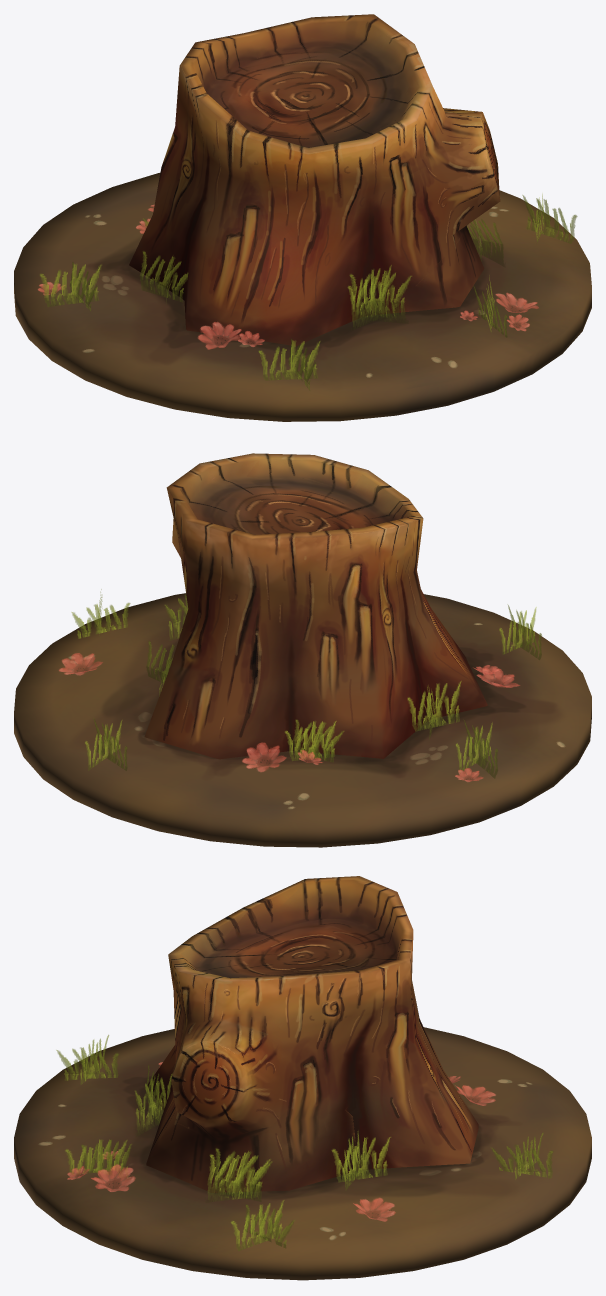
The model's file is Tree_Stump.glb.
3 renders of one model, top to bottom at view 1: azimuth 30°, elevation 25°; view 2: azimuth 150°, elevation 25°; view 3: azimuth 270°, elevation 25°, orthographic.
Visible parts, largest first — view 1: Cylinder_0, Circle_0, Plane.010_0, Plane.026_0, Plane.009_0, Plane.025_0, Plane.012_0, Plane.029_0, Plane.016_0, Plane.006_0; view 2: Circle_0, Cylinder_0, Plane.011_0, Plane.014_0, Plane.013_0, Plane.028_0, Plane.004_0, Plane.026_0, Plane.027_0, Plane.024_0, Plane.025_0, Plane.023_0 (+4 smaller); view 3: Cylinder_0, Circle_0, Plane.016_0, Plane.015_0, Plane.017_0, Plane.010_0, Plane.029_0, Plane.024_0, Plane.030_0, Plane.023_0, Plane.031_0, Plane.028_0 (+4 smaller).
Boxes of the visible parts, box(x1,y1,x2,y2) form: Cylinder_0: box(129, 14, 500, 346); Circle_0: box(14, 173, 591, 421); Plane.010_0: box(349, 270, 411, 323); Plane.026_0: box(40, 263, 101, 306); Plane.009_0: box(347, 265, 391, 329); Plane.025_0: box(258, 340, 320, 380); Plane.012_0: box(140, 251, 188, 302); Plane.029_0: box(522, 195, 577, 243); Plane.016_0: box(467, 219, 504, 266); Plane.006_0: box(198, 322, 241, 349); Circle_0: box(14, 593, 591, 847); Cylinder_0: box(144, 453, 487, 759); Plane.011_0: box(407, 681, 461, 731); Plane.014_0: box(285, 721, 336, 760); Plane.013_0: box(293, 719, 344, 762); Plane.028_0: box(71, 602, 130, 638); Plane.004_0: box(242, 742, 286, 772); Plane.026_0: box(464, 720, 497, 778); Plane.027_0: box(456, 722, 492, 772); Plane.024_0: box(499, 607, 536, 654); Plane.025_0: box(507, 604, 541, 659); Plane.023_0: box(85, 720, 122, 770); Cylinder_0: box(146, 876, 478, 1192); Circle_0: box(14, 1027, 591, 1280); Plane.016_0: box(206, 1152, 270, 1202); Plane.015_0: box(214, 1148, 272, 1201); Plane.017_0: box(331, 1137, 390, 1182); Plane.010_0: box(135, 1073, 172, 1136); Plane.029_0: box(230, 1200, 284, 1251); Plane.024_0: box(56, 1047, 118, 1080); Plane.030_0: box(65, 1139, 127, 1174); Plane.023_0: box(491, 1144, 553, 1178); Plane.031_0: box(81, 1139, 131, 1178); Plane.028_0: box(245, 1204, 294, 1248).
Size of the model in its own units: 3.28 by 1.54 by 3.28.
Materials: 5 (4 with a texture image).
